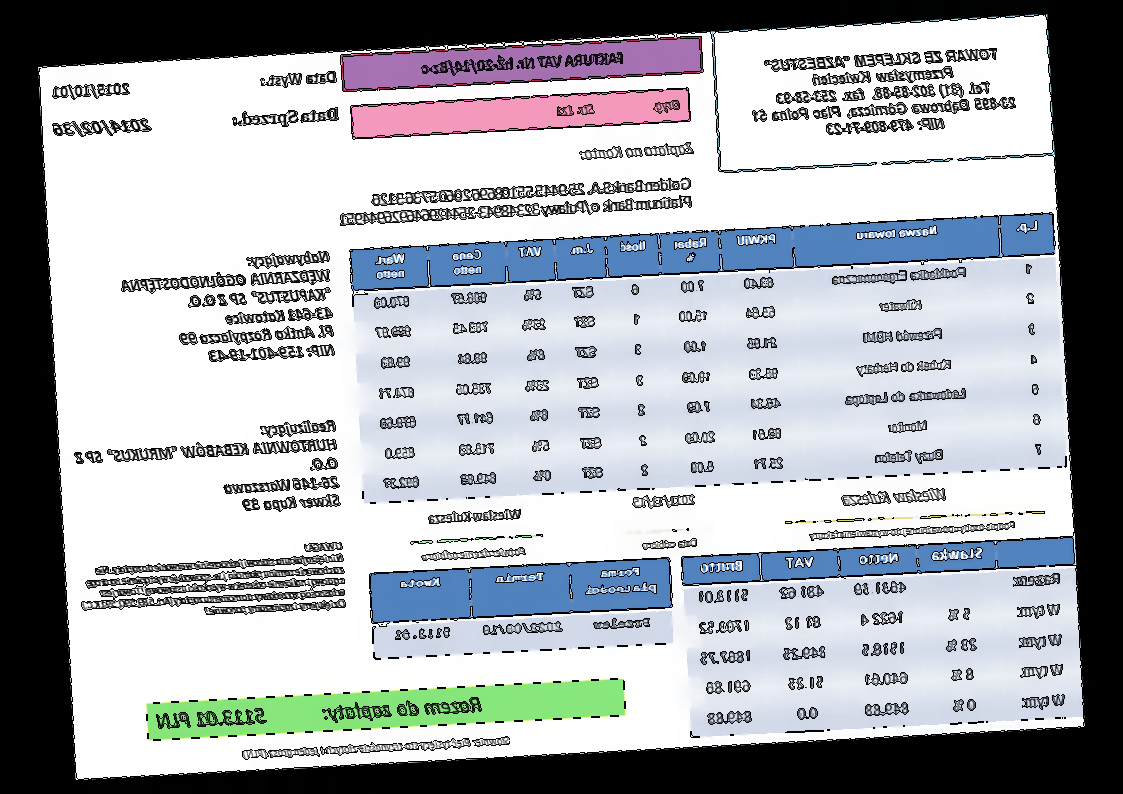Table: (350, 210, 1068, 503), (681, 535, 1083, 738), (368, 556, 676, 660)
TextBox: (72, 416, 342, 522), (746, 45, 1020, 143), (116, 249, 336, 370), (76, 539, 349, 624), (335, 175, 694, 229), (154, 692, 485, 732), (241, 733, 512, 763), (419, 47, 625, 79), (808, 517, 1017, 543), (578, 138, 697, 164), (229, 106, 340, 131), (839, 484, 949, 509), (554, 97, 683, 118), (51, 116, 153, 142), (425, 504, 524, 527), (419, 544, 528, 564), (51, 80, 132, 101), (258, 69, 337, 90), (631, 491, 698, 511), (642, 536, 700, 551)
